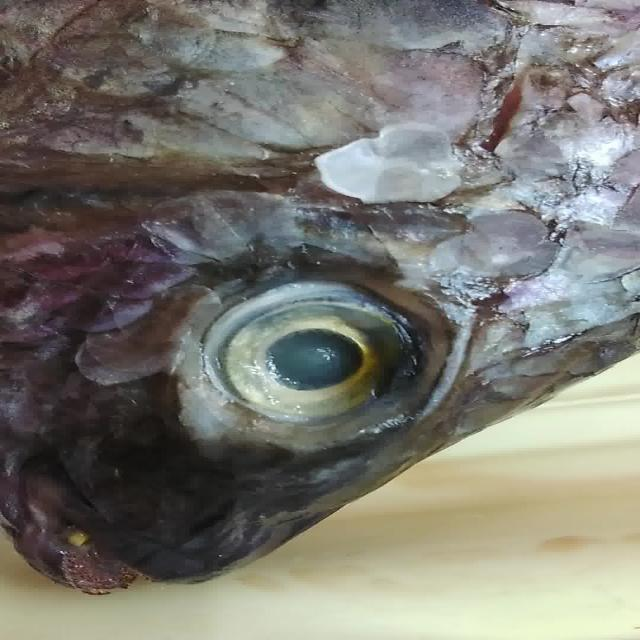Non-Fresh: (20, 6, 620, 272)
